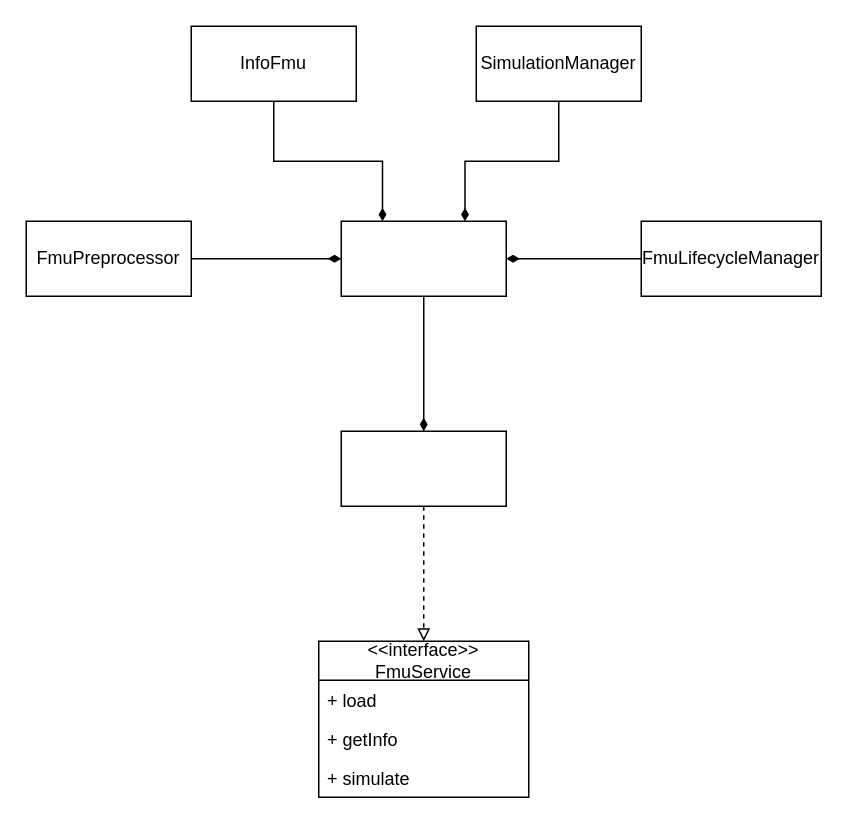
Some shapes in this 848 by 828 pixel diagram are drawn without their labels. The shapes that lost their labels are listed below. From the top down, each one's centre as x and y in pixels, then its label:
the point at 423,258: FmuManager
the point at 423,468: DefaultFmuService
